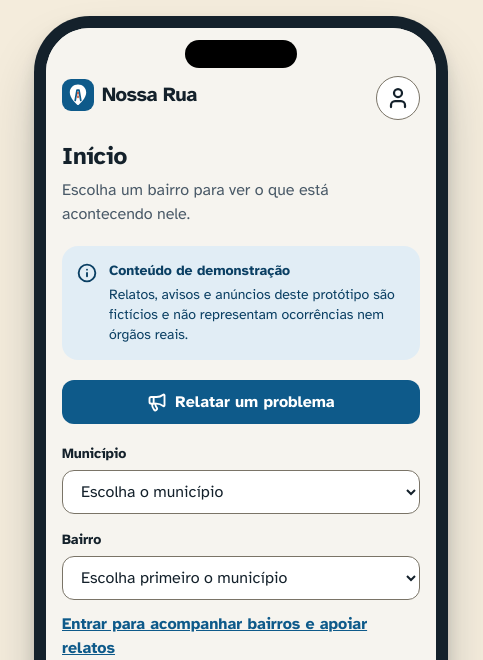
Test case: Início como visitante › mostra as publicações do bairro escolhido, todas marcadas como simuladas
Select "São Paulo" in the dropdown labelled "Município" at (241, 492), box x1=62 y1=470 x2=420 y2=514
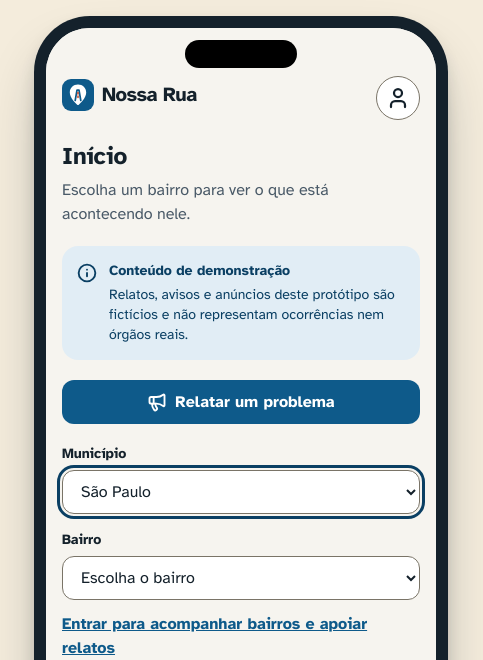
Select "Pinheiros" in the dropdown labelled "Bairro" at (241, 578), box x1=62 y1=556 x2=420 y2=600
(page scrolled)
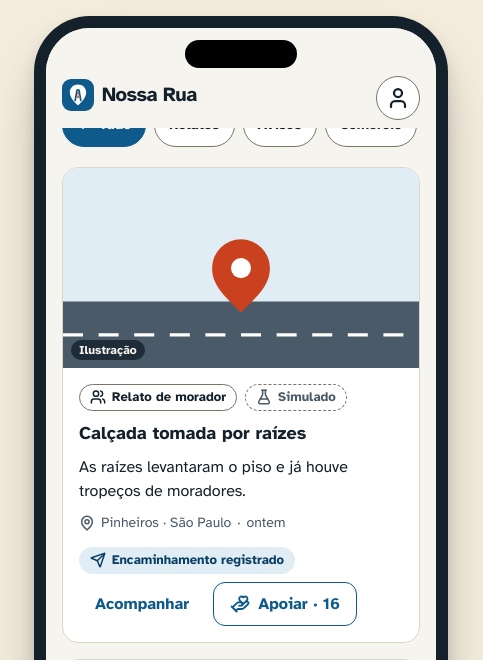
Now the text "Simulado" is shown, box x1=245 y1=384 x2=347 y2=411
Now the text "Relato de morador" is shown, box x1=79 y1=384 x2=237 y2=411
